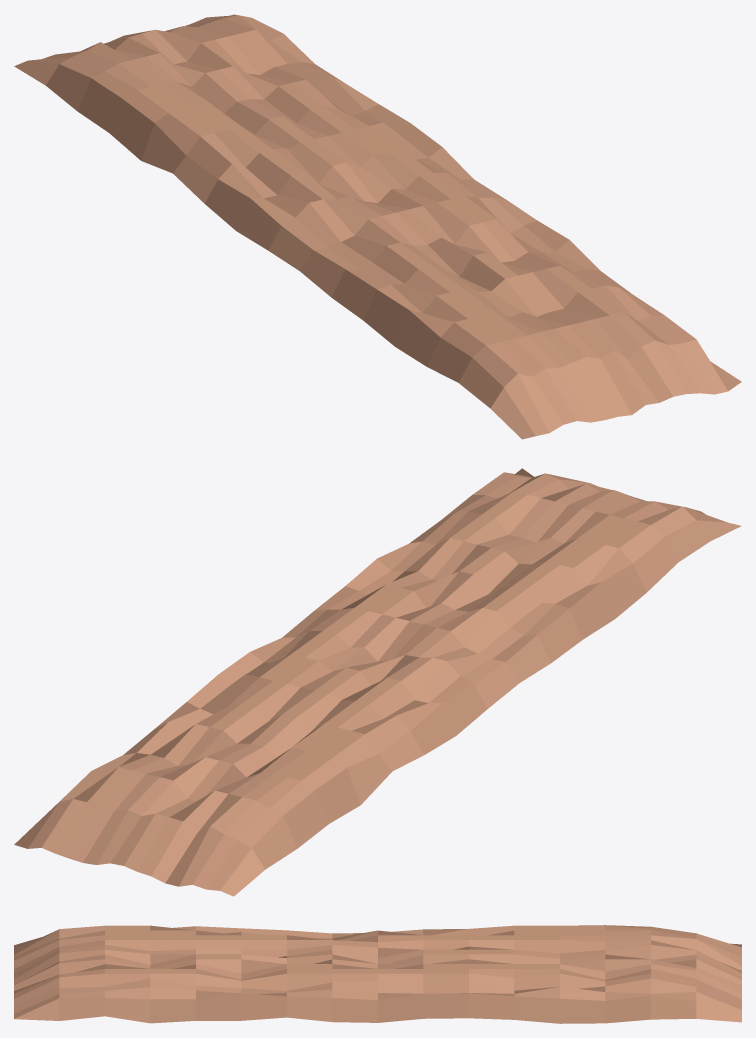
The model's file is mod_bg_SolMoyen.fbx.
3 views of the same model, one above another, from view 1: azimuth 30°, elevation 25°; view 2: azimuth 150°, elevation 25°; view 3: azimuth 270°, elevation 25° (orthographic). The views are drawn at different scales.
Visible parts, largest first — view 1: SolMoyen; view 2: SolMoyen; view 3: SolMoyen.
Boxes of the visible parts, x1,y1,x2,y2 form: SolMoyen: (14,14,741,439); SolMoyen: (14,468,741,896); SolMoyen: (14,925,741,1023).
Bounding box in the file's own units: 99.97 × 18.78 × 400.
